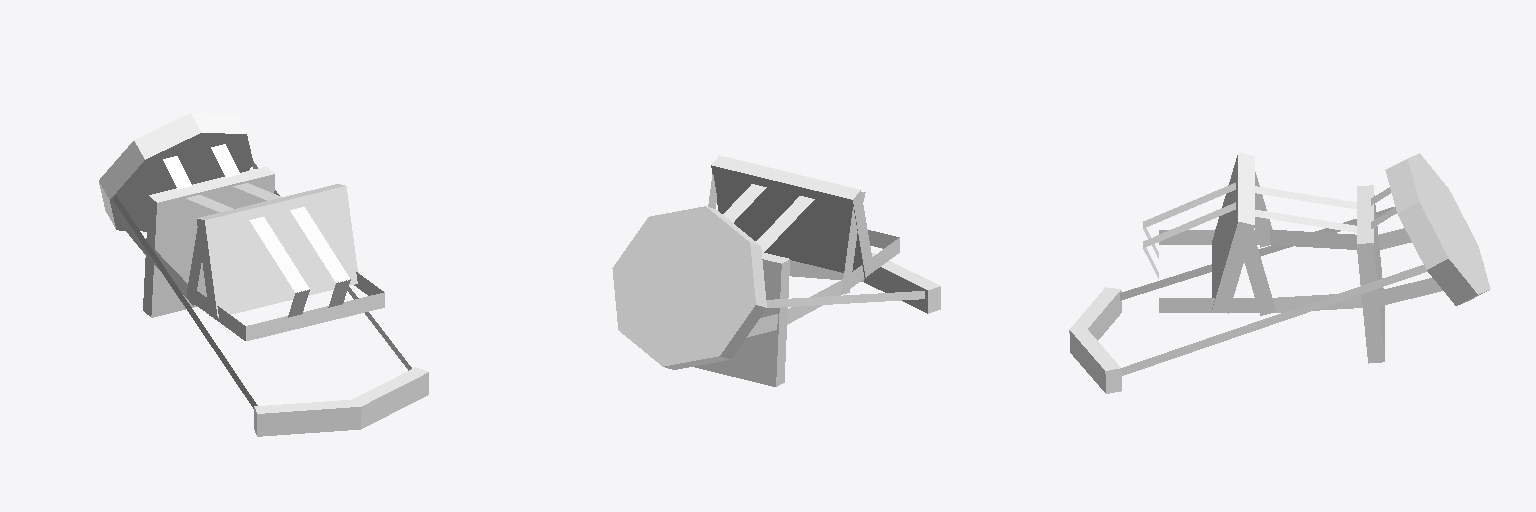
File: mt_harness_b.obj
The picture shows the model from 3 angles: view 1: azimuth 30°, elevation 25°; view 2: azimuth 150°, elevation 25°; view 3: azimuth 270°, elevation 25°; orthographic projection.
Visible parts, largest first — view 1: cube.004, cube.003, cube, octagon, cube.007, octagon.001, cube.002, octagon.000, cube.000, cube.015, cube.016, octagon.002 (+1 smaller); view 2: cube.004, octagon.000, cube.003, octagon.001, octagon, octagon.002, cube, cube.000, cube.007, cube.011, cube.005, cube.002 (+2 smaller); view 3: cube.004, cube.003, cube.001, octagon.002, cube.007, octagon.000, octagon.001, cube.002, octagon, cube.005, cube, cube.009 (+7 smaller).
Part boxes in pixels (bbox=[...]): cube.004: bbox=[197, 184, 357, 317]; cube.003: bbox=[143, 167, 274, 317]; cube: bbox=[254, 399, 361, 436]; octagon: bbox=[99, 141, 251, 200]; cube.007: bbox=[195, 272, 384, 340]; octagon.001: bbox=[118, 113, 246, 231]; cube.002: bbox=[348, 367, 428, 428]; octagon.000: bbox=[134, 113, 201, 160]; cube.000: bbox=[113, 195, 257, 408]; cube.015: bbox=[249, 217, 309, 292]; cube.016: bbox=[290, 207, 349, 282]; octagon.002: bbox=[99, 135, 252, 229]; cube.004: bbox=[711, 155, 873, 277]; octagon.000: bbox=[619, 206, 759, 366]; cube.003: bbox=[694, 252, 789, 386]; octagon.001: bbox=[649, 206, 729, 369]; octagon: bbox=[612, 243, 766, 329]; octagon.002: bbox=[613, 217, 766, 359]; cube: bbox=[864, 253, 940, 313]; cube.000: bbox=[766, 291, 924, 307]; cube.007: bbox=[850, 230, 899, 288]; cube.011: bbox=[756, 196, 814, 251]; cube.005: bbox=[708, 174, 857, 294]; cube.002: bbox=[790, 252, 872, 281]; cube.004: bbox=[1212, 152, 1254, 313]; cube.003: bbox=[1357, 185, 1384, 363]; cube.001: bbox=[1121, 264, 1427, 375]; octagon.002: bbox=[1398, 190, 1476, 269]; cube.007: bbox=[1159, 230, 1267, 312]; octagon.000: bbox=[1408, 153, 1490, 304]; octagon.001: bbox=[1385, 159, 1489, 286]; cube.002: bbox=[1069, 327, 1121, 393]; octagon: bbox=[1421, 155, 1477, 305]; cube.005: bbox=[1244, 172, 1276, 315]; cube: bbox=[1069, 287, 1121, 340]; cube.009: bbox=[1270, 230, 1356, 249].
Bounding box in the file's own units: 1.45 × 1.57 × 3.09.